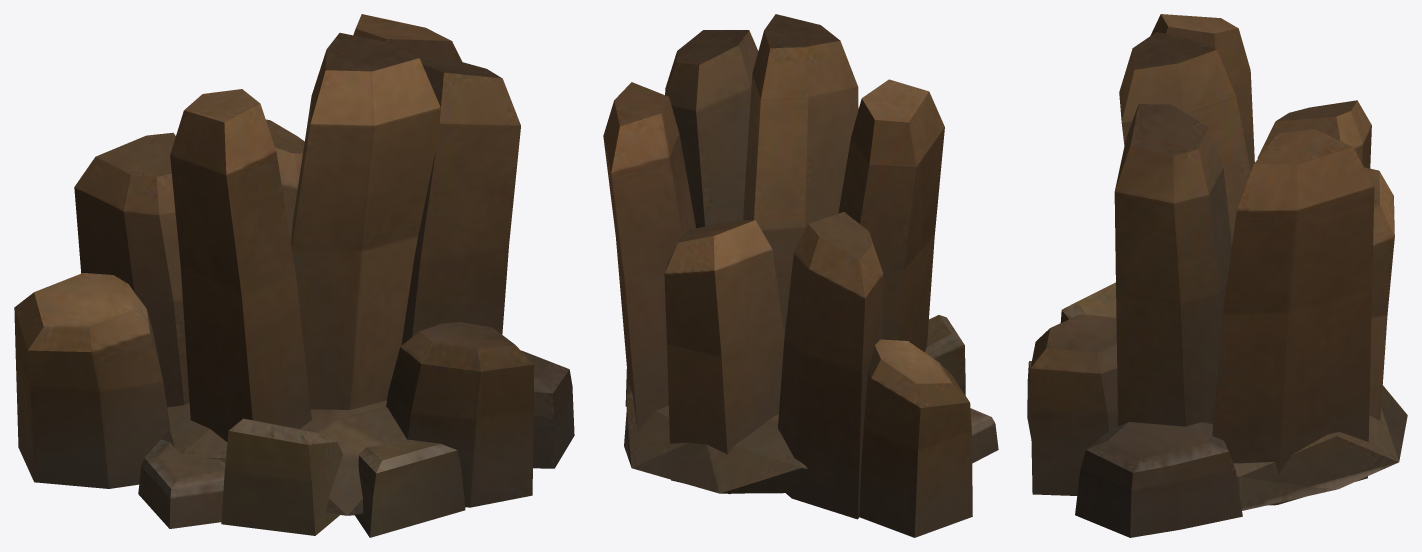
Rendered from huge-rock.glb.
3 renders of one model, left to right at view 1: azimuth 30°, elevation 25°; view 2: azimuth 150°, elevation 25°; view 3: azimuth 270°, elevation 25°, orthographic. The views are drawn at different scales.
Parts seen in each view (by area): view 1: huge-rock; view 2: huge-rock; view 3: huge-rock.
Part boxes in pixels (left/top/right/bottom): huge-rock: left=14, top=14, right=574, bottom=537; huge-rock: left=603, top=14, right=998, bottom=537; huge-rock: left=1027, top=14, right=1407, bottom=537.
Size of the model in its own units: 2.77 by 2.42 by 2.09.
1 material, 1 textured.
